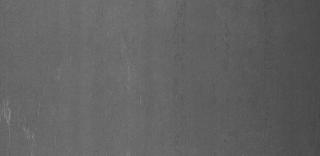silk spot: (0, 94, 50, 144)
